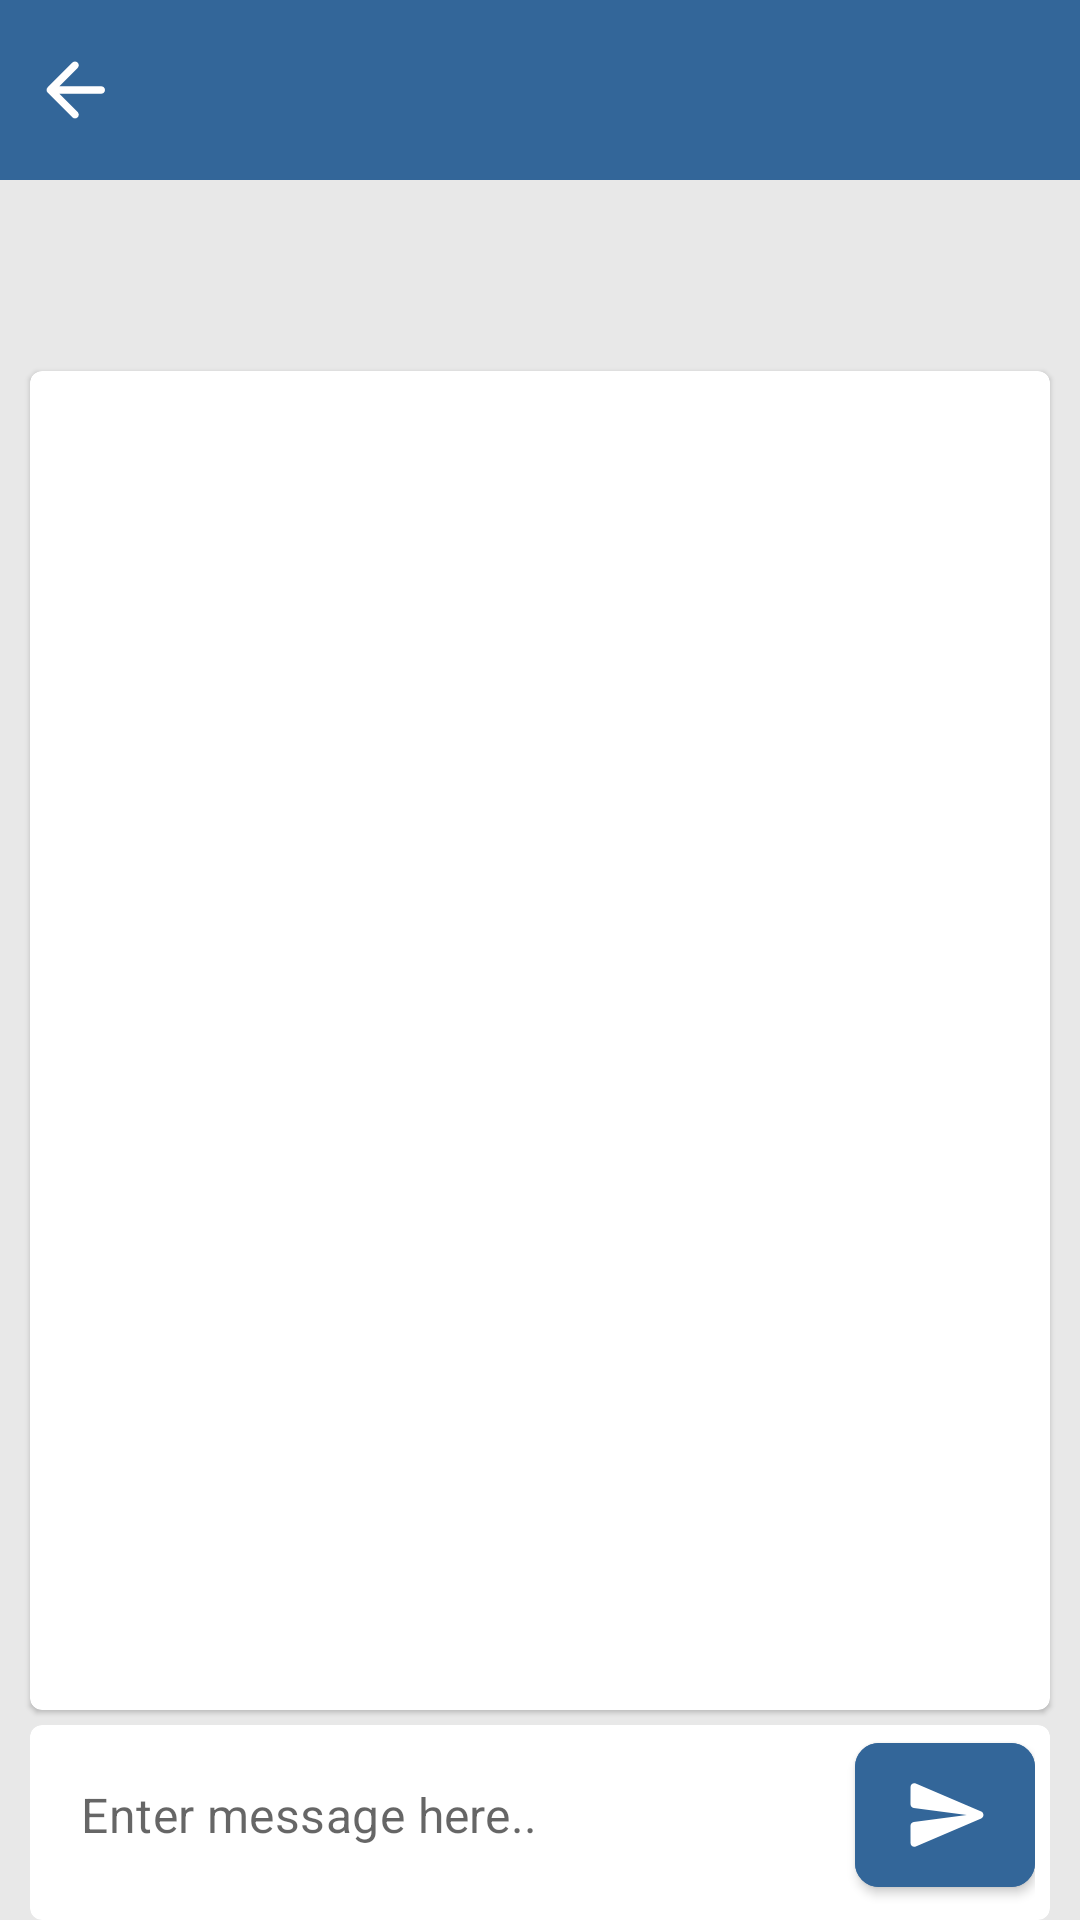

Screen size 1080px×1920px. Icon name, then its center in pixels as (x=x, y=y):
arrow back: (x=75, y=90)
send: (x=945, y=1818)
